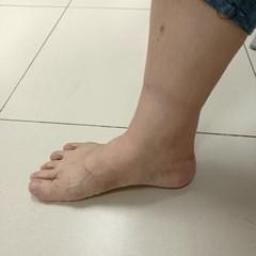Medial View -Right Foot-: (18, 92, 212, 212)
